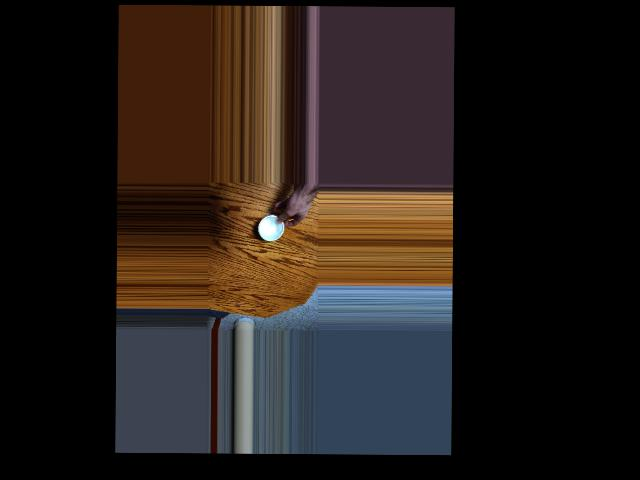cotage: (257, 212, 287, 241)
